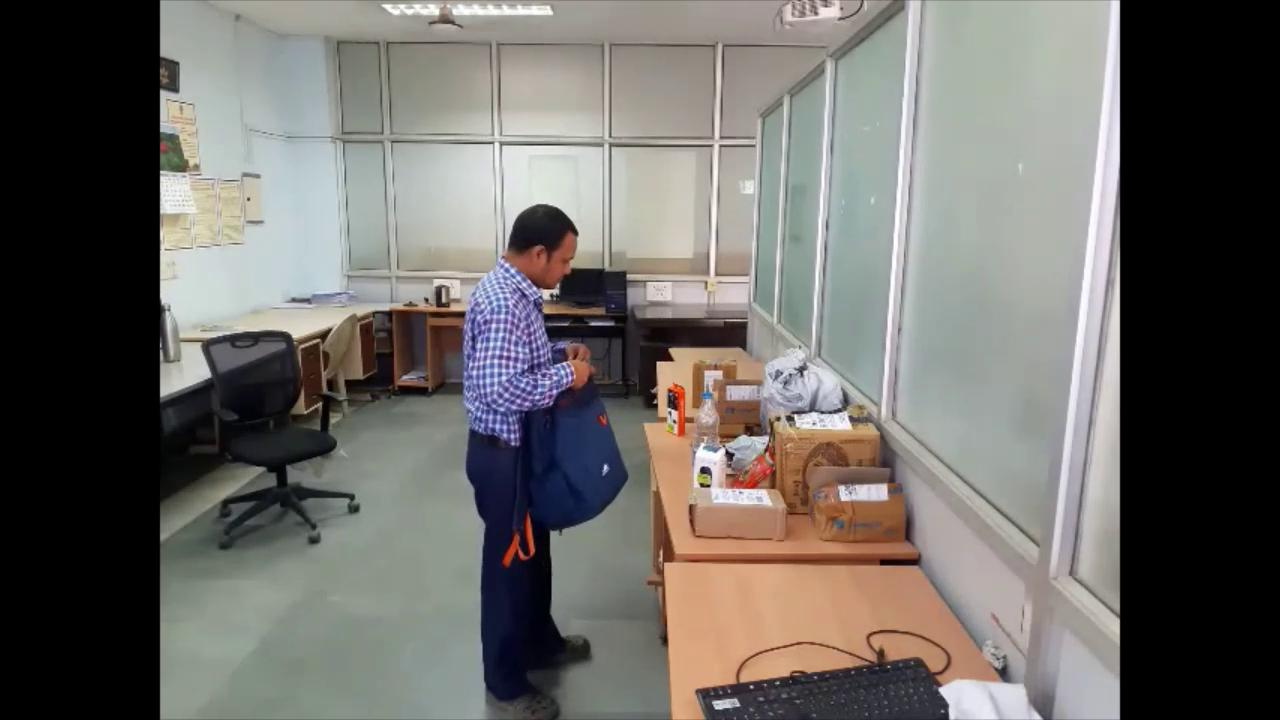shoplifting: (441, 198, 636, 720)
